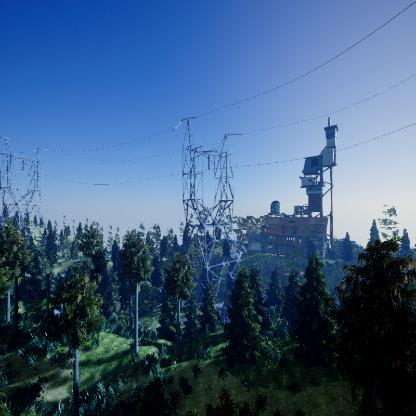tower: (169, 114, 247, 324), (0, 135, 46, 249)
